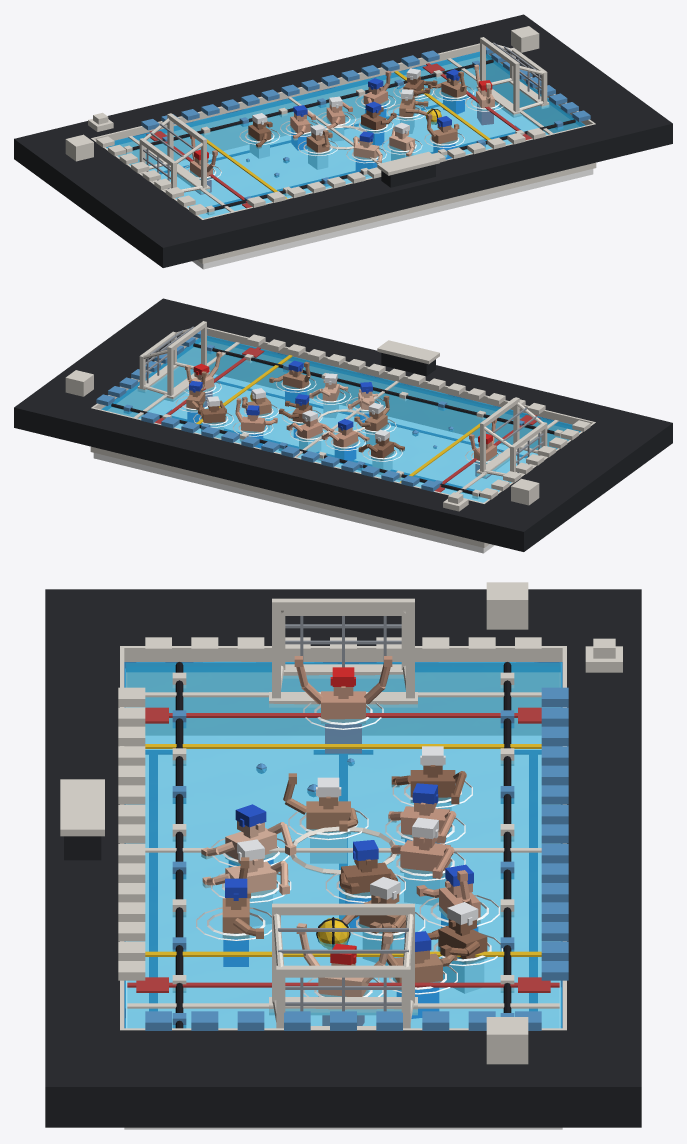
The model's file is waterpolo_scene.glb.
The picture shows the model from 3 angles, top to bottom: view 1: azimuth 30°, elevation 25°; view 2: azimuth 150°, elevation 25°; view 3: azimuth 270°, elevation 25°; orthographic projection. The views are drawn at different scales.
Visible parts, largest first — view 1: PROP_pool_deck, PROP_water_surface, PROP_water, PROP_pool_floor, PROP_pool_walls, PROP_waterpolo_goal_01, PROP_waterpolo_goal_00, PROP_waterline_band, FX_player_foam, PROP_officials_table, PROP_lane_rope_01, PROP_lane_rope_00 (+17 smaller); view 2: PROP_pool_deck, PROP_water_surface, PROP_water, PROP_pool_walls, PROP_pool_floor, PROP_waterpolo_goal_00, PROP_waterpolo_goal_01, PROP_waterline_band, FX_player_foam, PROP_lane_rope_00, PROP_officials_table, PROP_lane_rope_01 (+17 smaller); view 3: PROP_pool_deck, PROP_water_surface, PROP_water, PROP_pool_floor, PROP_pool_walls, PROP_waterpolo_goal_01, PROP_waterpolo_goal_00, PROP_pool_floor_lines, FX_player_foam, PROP_lane_rope_00, PROP_lane_rope_01, PROP_player_white_00 (+26 smaller).
Part boxes in pixels (left/top/right/bottom): PROP_pool_deck: left=14, top=14, right=672, bottom=267; PROP_water_surface: left=106, top=52, right=584, bottom=218; PROP_water: left=107, top=54, right=580, bottom=217; PROP_pool_floor: left=149, top=89, right=593, bottom=269; PROP_pool_walls: left=91, top=43, right=596, bottom=263; PROP_waterpolo_goal_01: left=476, top=37, right=549, bottom=117; PROP_waterpolo_goal_00: left=139, top=113, right=210, bottom=198; PROP_waterline_band: left=106, top=51, right=585, bottom=147; FX_player_foam: left=184, top=83, right=503, bottom=180; PROP_officials_table: left=377, top=151, right=439, bottom=187; PROP_lane_rope_01: left=123, top=59, right=493, bottom=154; PROP_lane_rope_00: left=205, top=119, right=575, bottom=214; PROP_pool_deck: left=14, top=298, right=672, bottom=551; PROP_water_surface: left=102, top=336, right=580, bottom=502; PROP_water: left=106, top=338, right=579, bottom=501; PROP_pool_walls: left=90, top=327, right=595, bottom=547; PROP_pool_floor: left=93, top=374, right=537, bottom=553; PROP_waterpolo_goal_00: left=476, top=397, right=547, bottom=482; PROP_waterpolo_goal_01: left=137, top=321, right=210, bottom=401; PROP_waterline_band: left=101, top=335, right=580, bottom=431; FX_player_foam: left=175, top=377, right=502, bottom=464; PROP_lane_rope_00: left=193, top=343, right=563, bottom=438; PROP_officials_table: left=377, top=340, right=439, bottom=376; PROP_lane_rope_01: left=111, top=403, right=481, bottom=498; PROP_pool_deck: left=45, top=589, right=641, bottom=1127; PROP_water_surface: left=125, top=662, right=561, bottom=1027; PROP_water: left=128, top=667, right=558, bottom=1027; PROP_pool_floor: left=124, top=736, right=562, bottom=1129; PROP_pool_walls: left=120, top=646, right=566, bottom=1030; PROP_waterpolo_goal_01: left=269, top=903, right=417, bottom=1028; PROP_waterpolo_goal_00: left=269, top=598, right=417, bottom=709; PROP_pool_floor_lines: left=145, top=750, right=541, bottom=1010; FX_player_foam: left=196, top=702, right=502, bottom=996; PROP_lane_rope_00: left=172, top=662, right=186, bottom=1028; PROP_lane_rope_01: left=500, top=662, right=514, bottom=1016; PROP_player_white_00: left=294, top=656, right=392, bottom=753.
Size of the model in its own units: 7.9 by 1.38 by 4.
